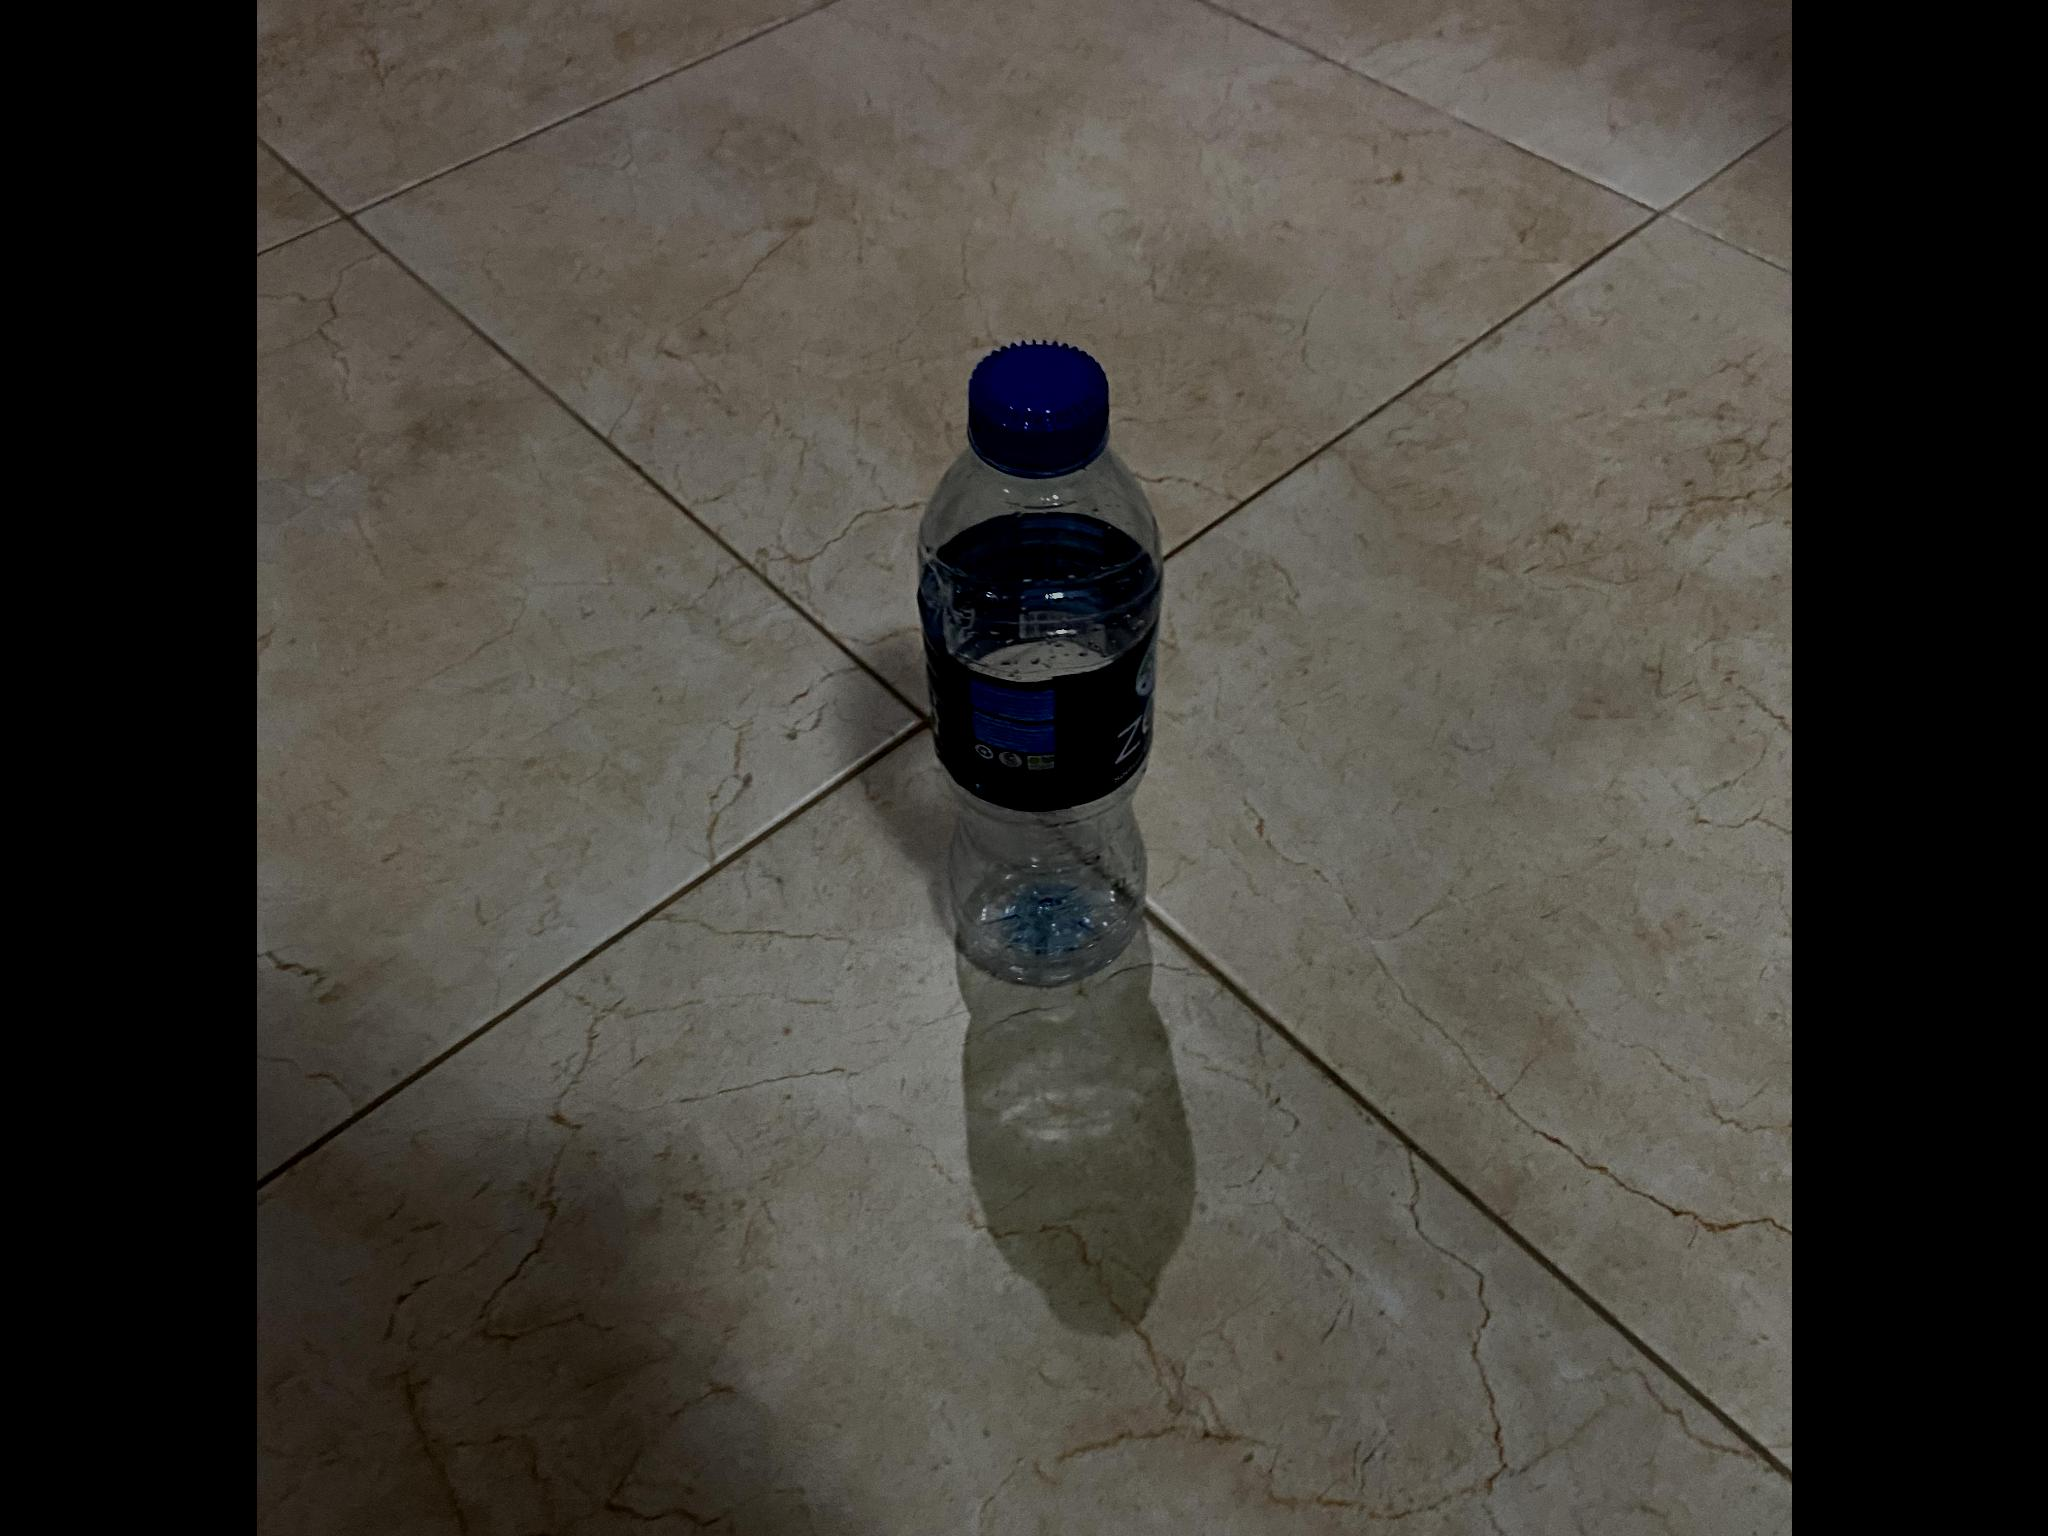bottle: (830, 608, 1364, 986)
